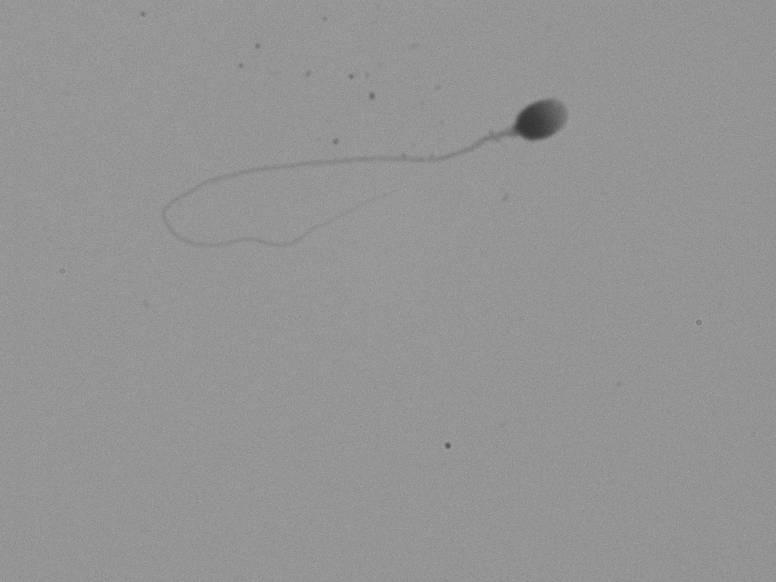Normal: (166, 51, 628, 274)
